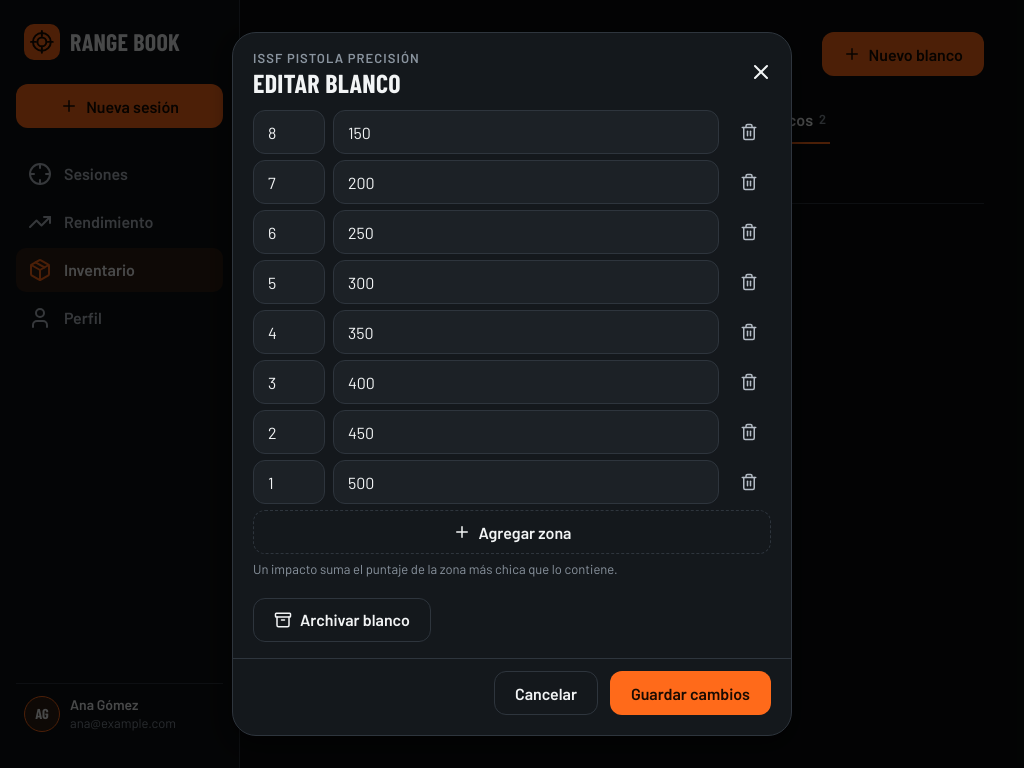
Scenario: Inventario: blancos › edición › archivar desde la edición lo saca de la lista
The width and height of the screenshot is (1024, 768).
(page scrolled)
Click the button "Archivar blanco".
click(342, 620)  # box [253,598,431,642]
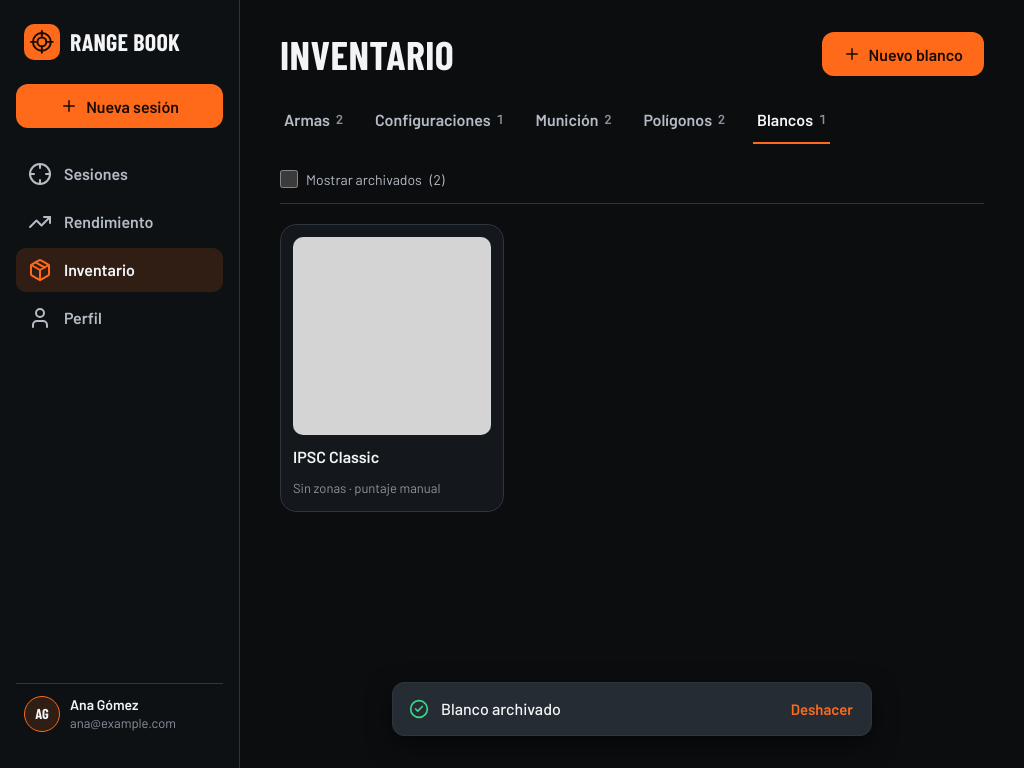
Expected: the dialog is gone
Expected: the text "Blanco archivado" is shown, [441,699,561,718]
Expected: the link "ISSF Pistola Precisión" is gone
